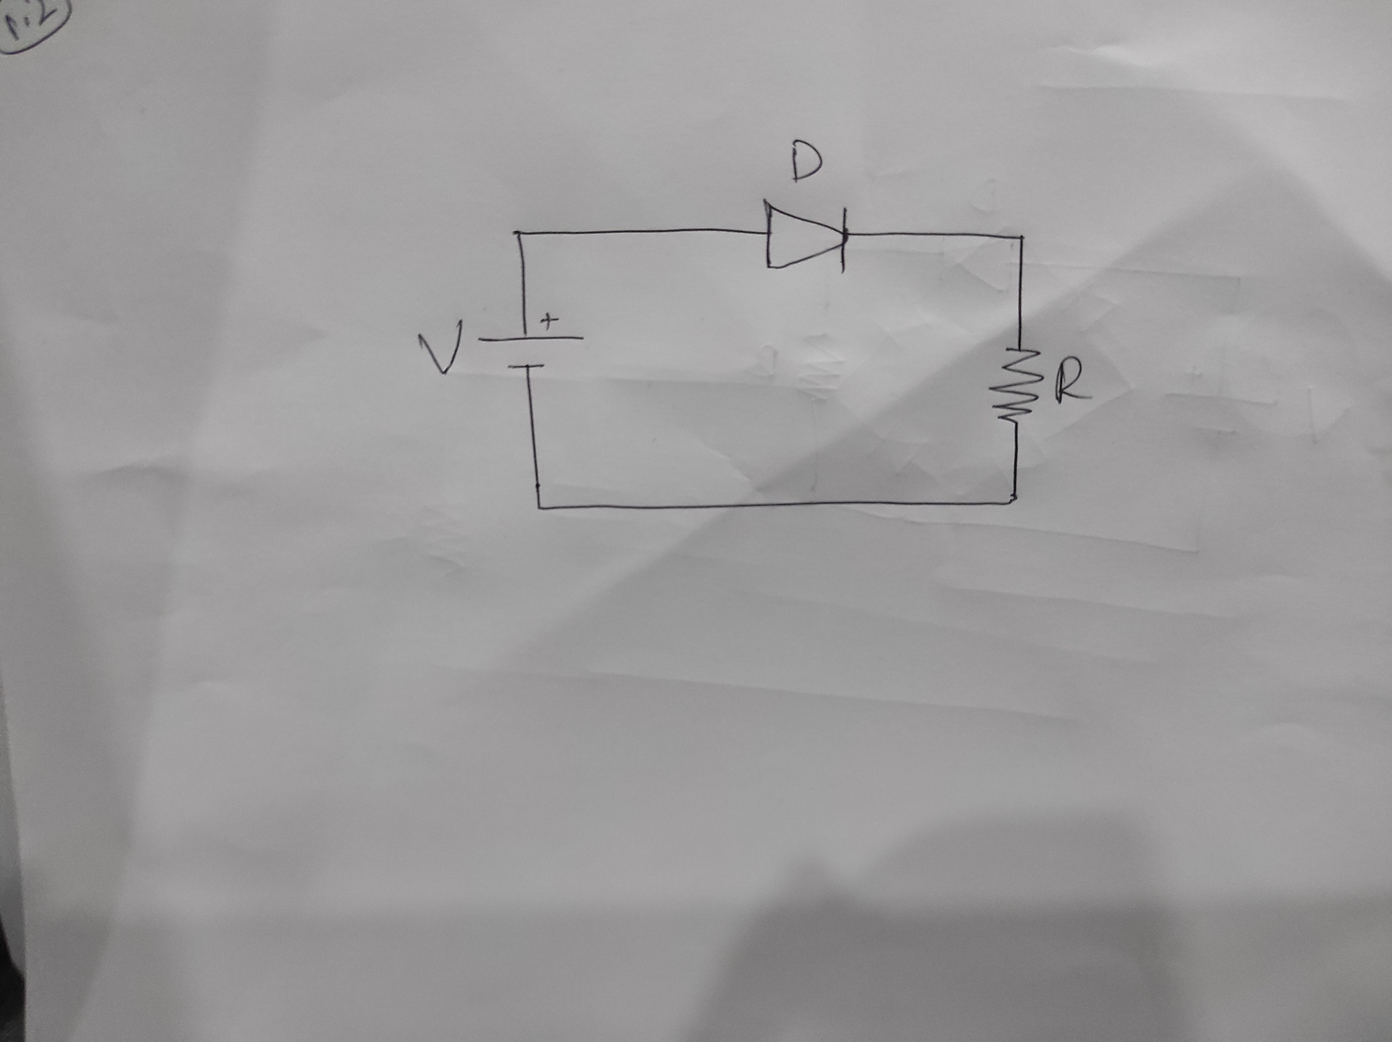diode: (761, 197, 852, 277)
junction: (999, 493, 1021, 511), (530, 498, 548, 518), (509, 224, 526, 242), (1014, 229, 1030, 245)
resistor: (986, 343, 1047, 425)
text: (415, 317, 466, 377), (1053, 352, 1097, 405), (790, 135, 826, 187)
voltage.dc: (474, 309, 588, 371)
